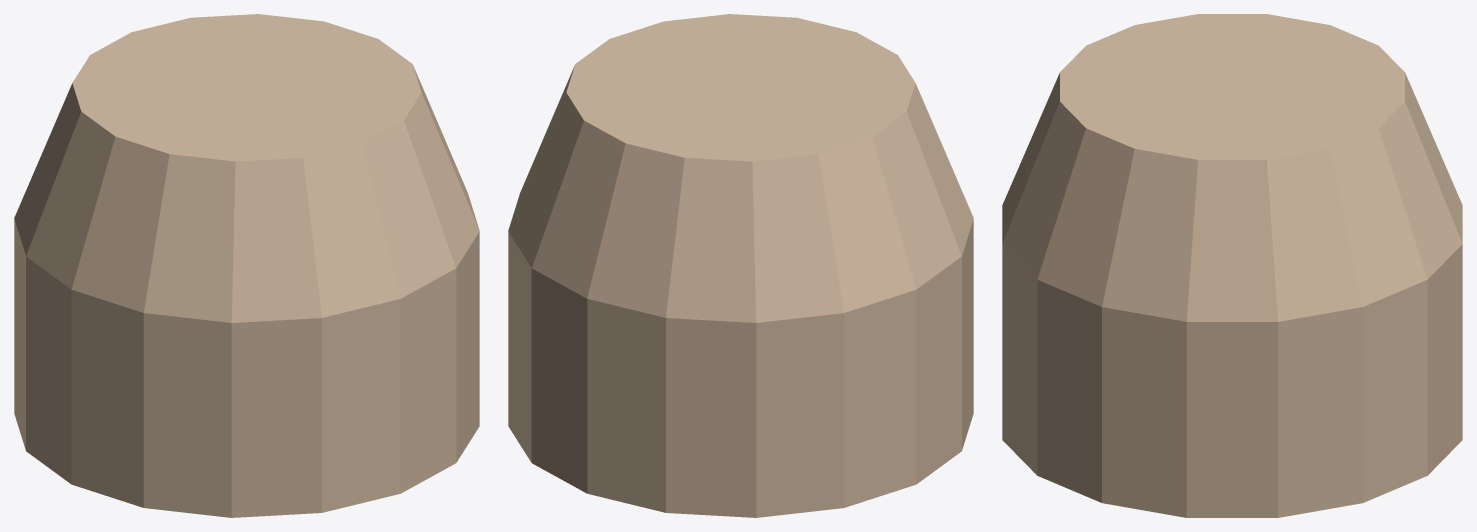
File: vega_crew_s1_3_collider.obj
The picture shows the model from 3 angles, left to right: view 1: azimuth 30°, elevation 25°; view 2: azimuth 150°, elevation 25°; view 3: azimuth 270°, elevation 25°; orthographic projection.
Visible parts, largest first — view 1: collider; view 2: collider; view 3: collider.
Part boxes in pixels (box(x1,y1,x2,y2)): collider: box(14, 14, 479, 517); collider: box(508, 14, 973, 517); collider: box(1002, 14, 1462, 517).
Size of the model in its own units: 1.25 by 1 by 1.25.
